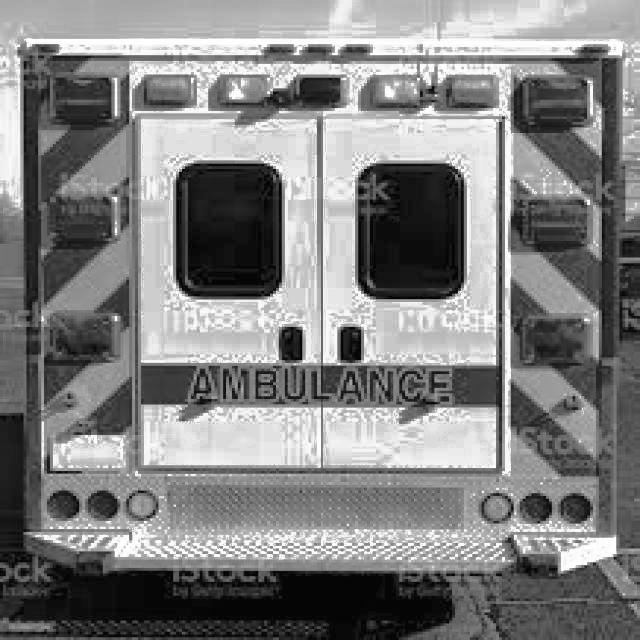LCV: (19, 44, 623, 553)
